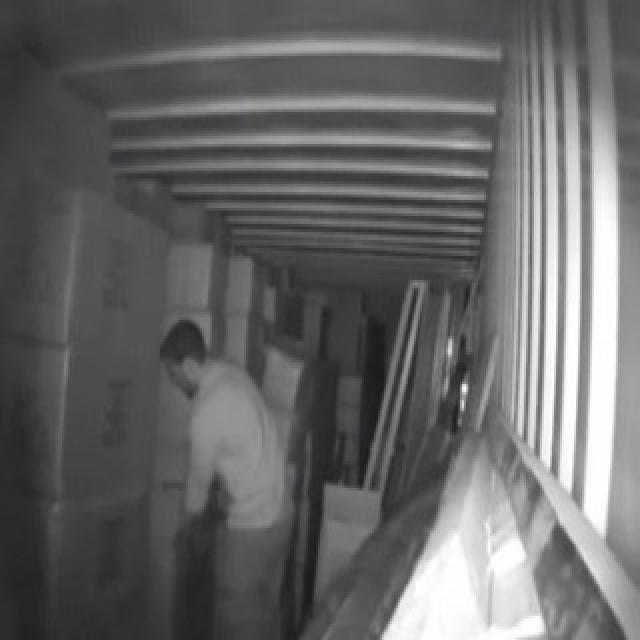thief: (140, 301, 291, 640)
